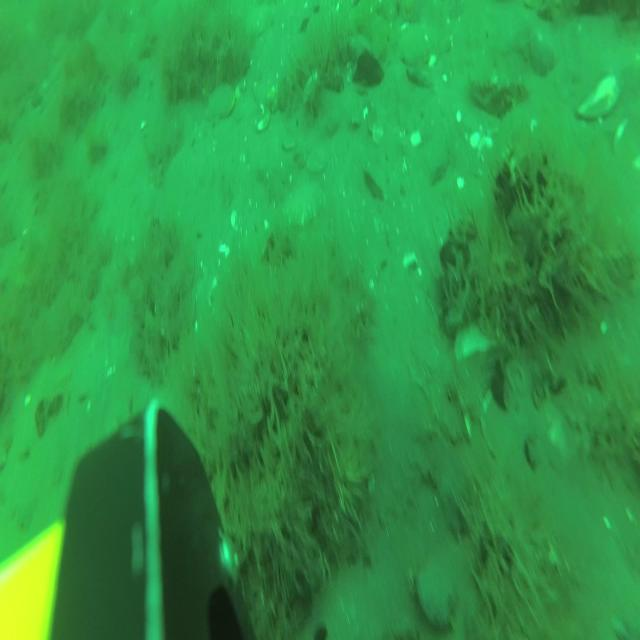scallop: (284, 183, 327, 229), (397, 21, 435, 60), (208, 82, 234, 125), (306, 147, 328, 173)
